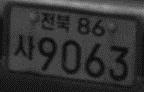0: (60, 39, 82, 76)
3: (108, 43, 129, 81)
6: (83, 42, 105, 79), (91, 18, 106, 37)
8: (75, 16, 91, 36)
9: (37, 35, 58, 71)
사: (12, 32, 35, 62)
전북_H: (39, 10, 71, 33)
